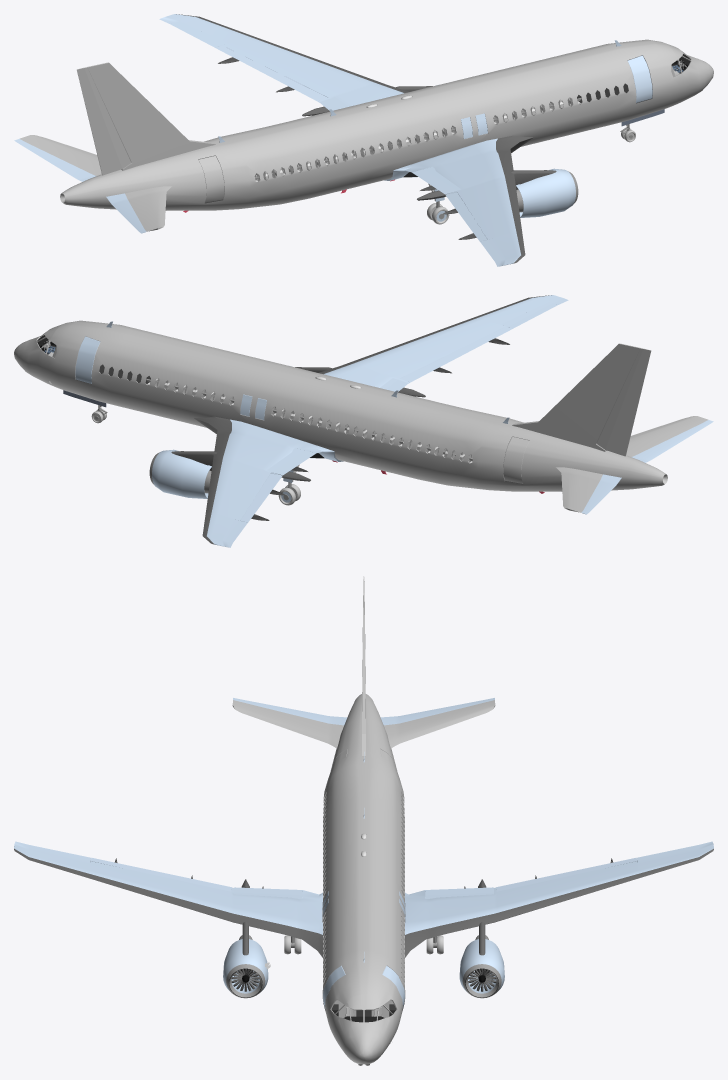
Rendered from version_VIII.fbx.
3 views of the same model, one above another, from view 1: azimuth 30°, elevation 25°; view 2: azimuth 150°, elevation 25°; view 3: azimuth 270°, elevation 25° (orthographic). The views are drawn at different scales.
Parts seen in each view (by area): view 1: Cylinder, Cube, Cylinder.007, Cube.004, Cube.003, Cube.068, Cylinder.003, Cube.021, Cylinder.004, Cube.066, Cylinder.023, Cube.007 (+4 smaller); view 2: Cylinder, Cube, Cylinder.007, Cube.004, Cube.003, Cube.068, Cylinder.004, Cube.021, Cylinder.003, Cube.066, Cylinder.027, Cube.007 (+4 smaller); view 3: Cylinder, Cube, Cube.003, Cylinder.003, Cylinder.004, Cube.068, Cube.067, Cube.007.
Boxes of the visible parts, x1=… form: Cylinder: x1=60, y1=39, x2=713, y2=210; Cube: x1=159, y1=14, x2=533, y2=266; Cylinder.007: x1=87, y1=62, x2=215, y2=170; Cube.004: x1=77, y1=67, x2=130, y2=175; Cube.003: x1=436, y1=85, x2=578, y2=217; Cube.068: x1=215, y1=45, x2=487, y2=241; Cylinder.003: x1=125, y1=186, x2=171, y2=231; Cube.021: x1=254, y1=97, x2=581, y2=182; Cylinder.004: x1=20, y1=135, x2=101, y2=175; Cube.066: x1=302, y1=86, x2=556, y2=200; Cylinder.023: x1=198, y1=155, x2=224, y2=202; Cube.007: x1=170, y1=21, x2=505, y2=261; Cylinder: x1=14, y1=320, x2=667, y2=491; Cube: x1=194, y1=295, x2=568, y2=547; Cylinder.007: x1=512, y1=343, x2=640, y2=451; Cube.004: x1=597, y1=348, x2=651, y2=456; Cube.003: x1=149, y1=366, x2=291, y2=498; Cube.068: x1=240, y1=326, x2=512, y2=522; Cylinder.004: x1=556, y1=467, x2=602, y2=512; Cube.021: x1=146, y1=378, x2=473, y2=463; Cylinder.003: x1=626, y1=416, x2=707, y2=456; Cube.066: x1=171, y1=367, x2=425, y2=481; Cylinder.027: x1=503, y1=436, x2=529, y2=483; Cube.007: x1=222, y1=302, x2=557, y2=542; Cylinder: x1=322, y1=694, x2=405, y2=1064; Cube: x1=14, y1=841, x2=713, y2=957; Cube.003: x1=223, y1=939, x2=504, y2=998; Cylinder.003: x1=232, y1=700, x2=343, y2=748; Cylinder.004: x1=384, y1=700, x2=495, y2=748; Cube.068: x1=91, y1=857, x2=636, y2=891; Cube.067: x1=234, y1=887, x2=493, y2=898; Cube.007: x1=29, y1=845, x2=698, y2=863.
Size of what is drawn, in the model's own units: 3797 by 1154 by 3436.
